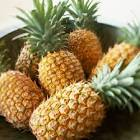Pineapple: (29, 55, 139, 140), (19, 1, 87, 96), (67, 1, 106, 75)
